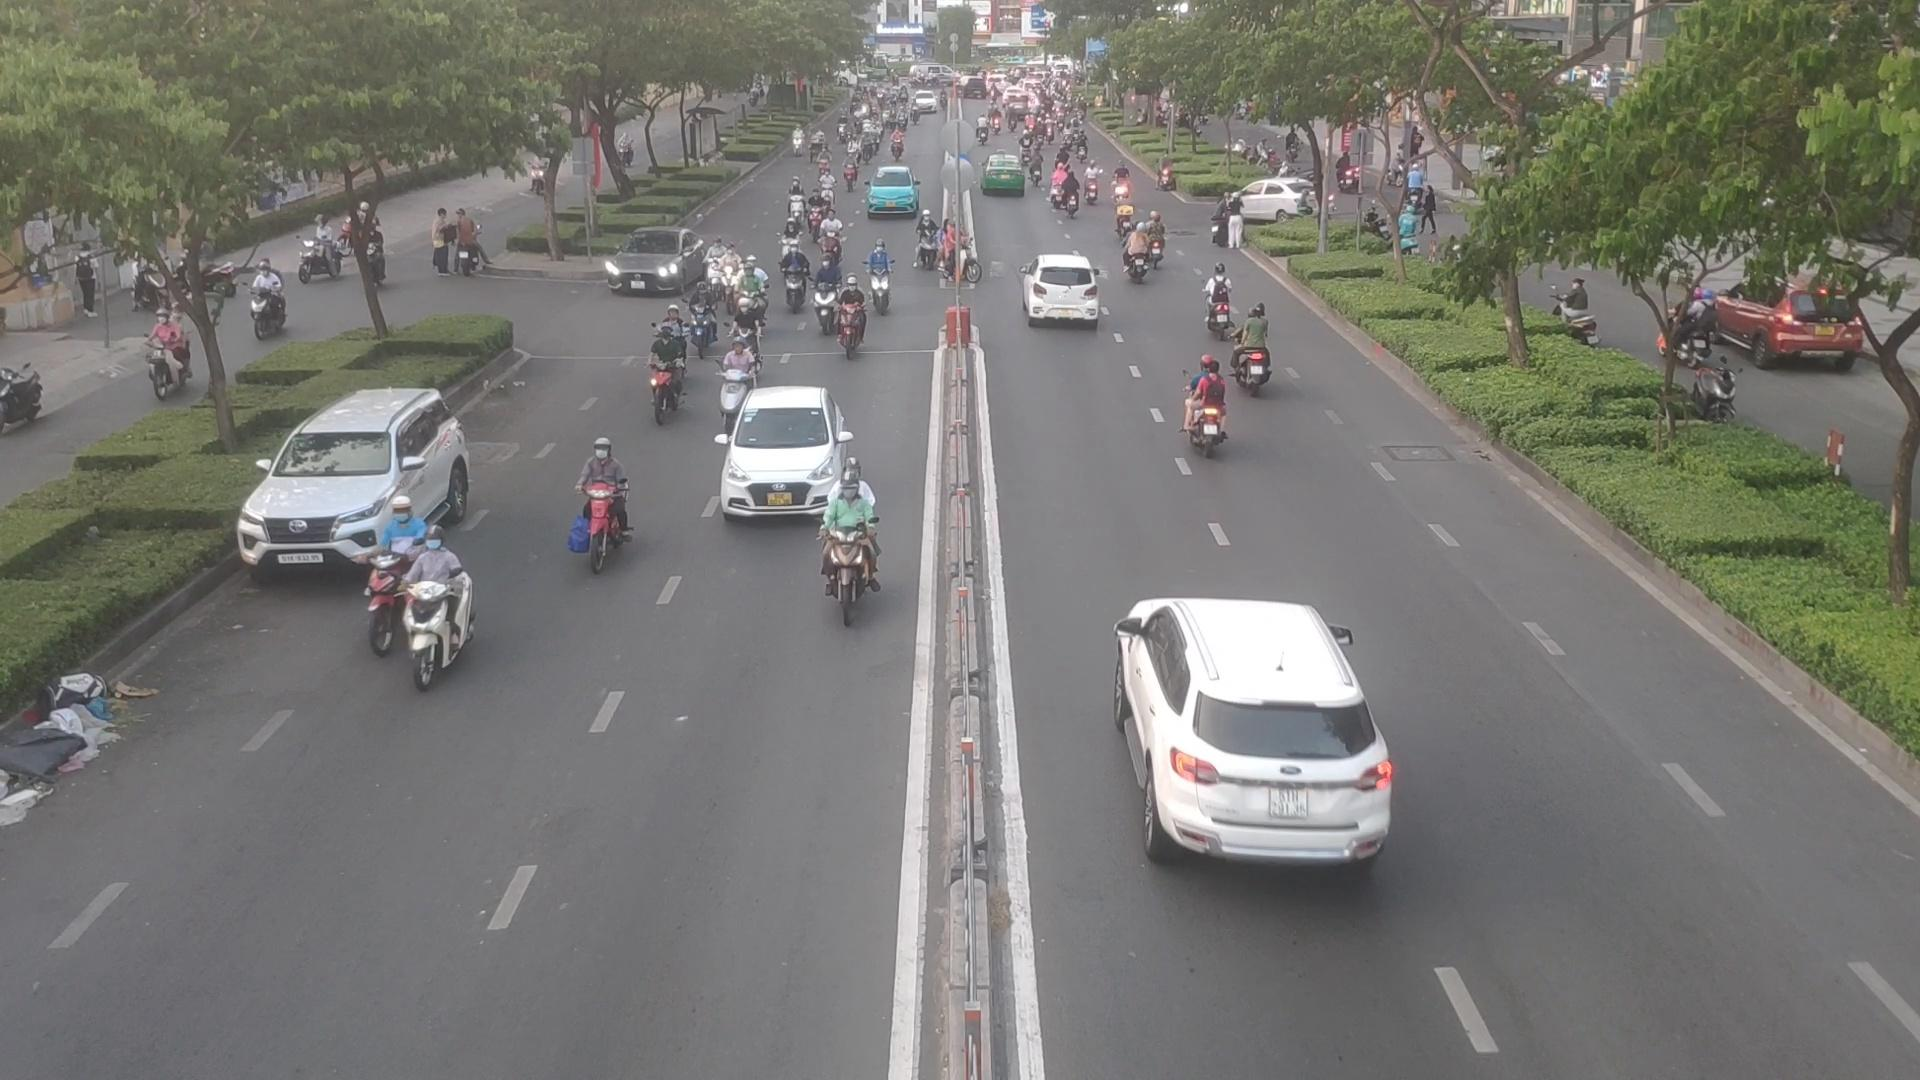car: (1110, 597, 1393, 866), (233, 386, 484, 575), (716, 390, 843, 521), (603, 229, 709, 298), (1022, 252, 1102, 324), (1232, 181, 1317, 225), (862, 167, 924, 222), (980, 153, 1026, 196)
motorbike: (808, 458, 893, 626), (407, 531, 479, 684), (361, 502, 419, 661), (568, 433, 622, 570), (1178, 353, 1230, 454), (650, 327, 684, 419), (720, 343, 756, 429), (1232, 309, 1273, 382), (1203, 261, 1241, 338), (735, 255, 770, 318), (864, 237, 893, 313), (836, 278, 864, 356), (779, 243, 808, 315), (1116, 218, 1149, 281), (731, 305, 762, 369), (814, 255, 839, 326), (819, 207, 847, 264), (688, 291, 712, 356), (720, 244, 744, 306), (915, 214, 940, 266), (705, 237, 727, 295), (1110, 165, 1139, 206), (1145, 214, 1166, 266), (1079, 164, 1102, 210), (785, 175, 807, 223), (803, 190, 825, 237), (818, 171, 843, 211), (778, 218, 799, 258), (1052, 165, 1069, 208), (1068, 175, 1084, 222), (1114, 200, 1131, 237), (843, 157, 858, 193), (1033, 152, 1044, 189)
